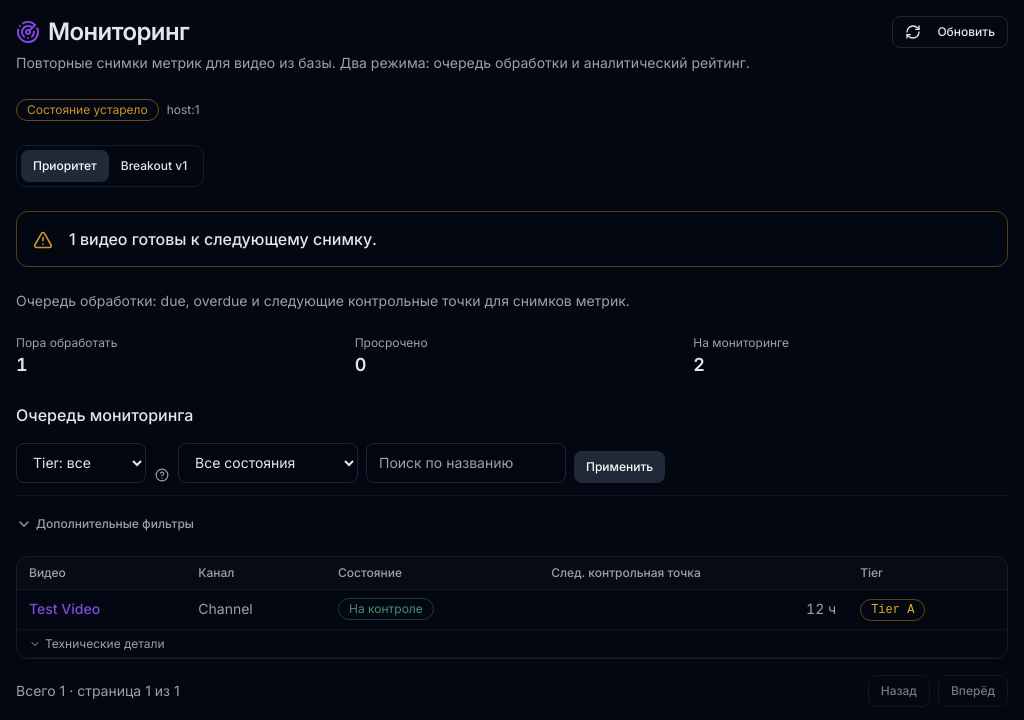
Test case: MonitoringDashboard › does not show composite score in breakout mode
Click the tab with test id "monitoring-mode-breakout" at (154, 166), box [109,150,199,182]
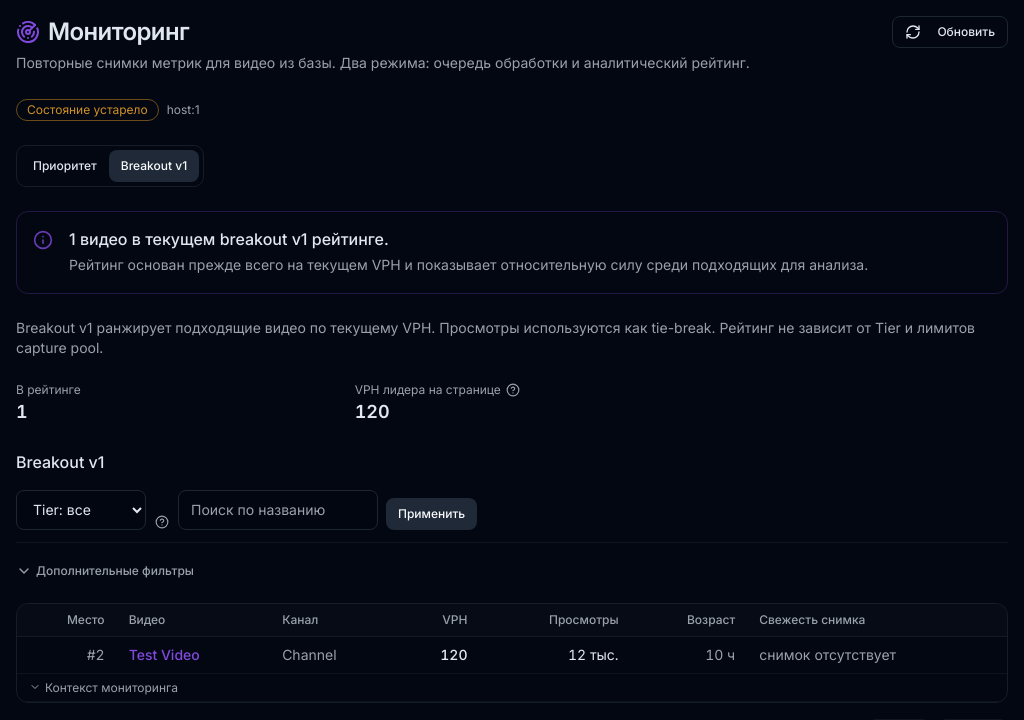
Result: the text "#2" is shown at [17,636,117,673]
